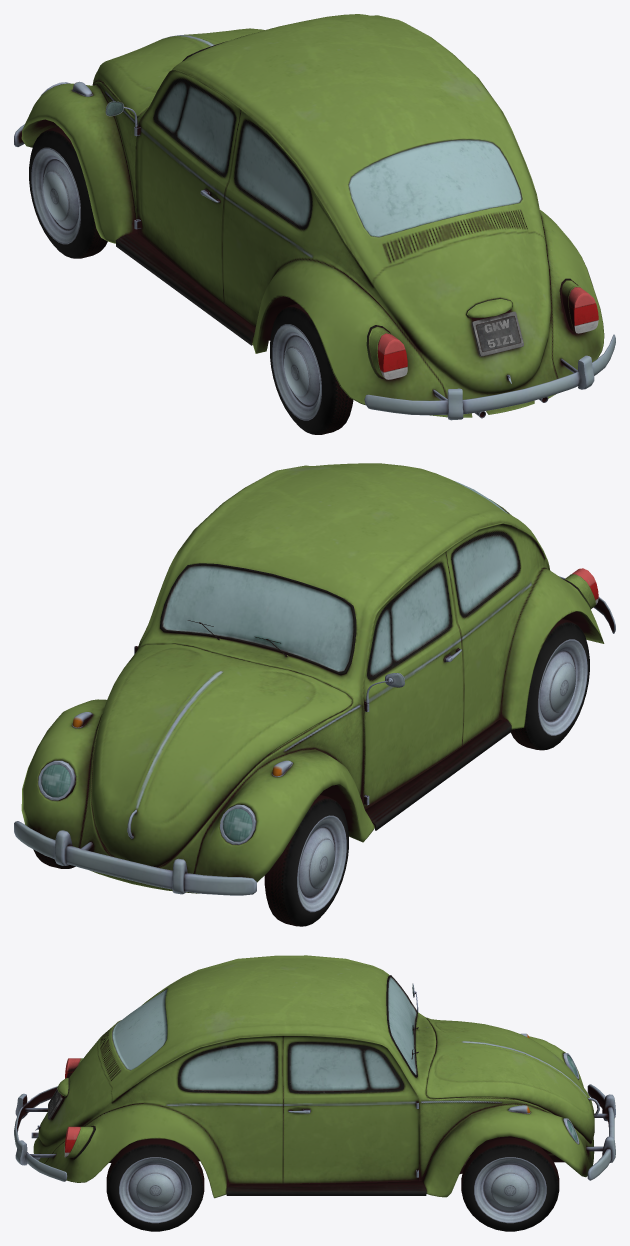
The model's file is VW_BEETLE.fbx.
3 renders of one model, top to bottom at view 1: azimuth 30°, elevation 25°; view 2: azimuth 150°, elevation 25°; view 3: azimuth 270°, elevation 25°, orthographic. The views are drawn at different scales.
Parts seen in each view (by area): view 1: VW_BEETLE, R_WHEELS, FR_WHEEL; view 2: VW_BEETLE, FR_WHEEL, R_WHEELS; view 3: VW_BEETLE, FR_WHEEL, R_WHEELS.
Boxes of the visible parts, x1,y1,x2,y2 form: VW_BEETLE: (14, 14, 615, 420); R_WHEELS: (270, 303, 353, 434); FR_WHEEL: (29, 126, 107, 258); VW_BEETLE: (14, 463, 615, 895); FR_WHEEL: (264, 795, 348, 926); R_WHEELS: (511, 619, 589, 750); VW_BEETLE: (14, 955, 615, 1198); FR_WHEEL: (461, 1138, 559, 1231); R_WHEELS: (106, 1138, 204, 1231).
Bounding box in the file's own units: 11.52 × 10.82 × 28.65.
